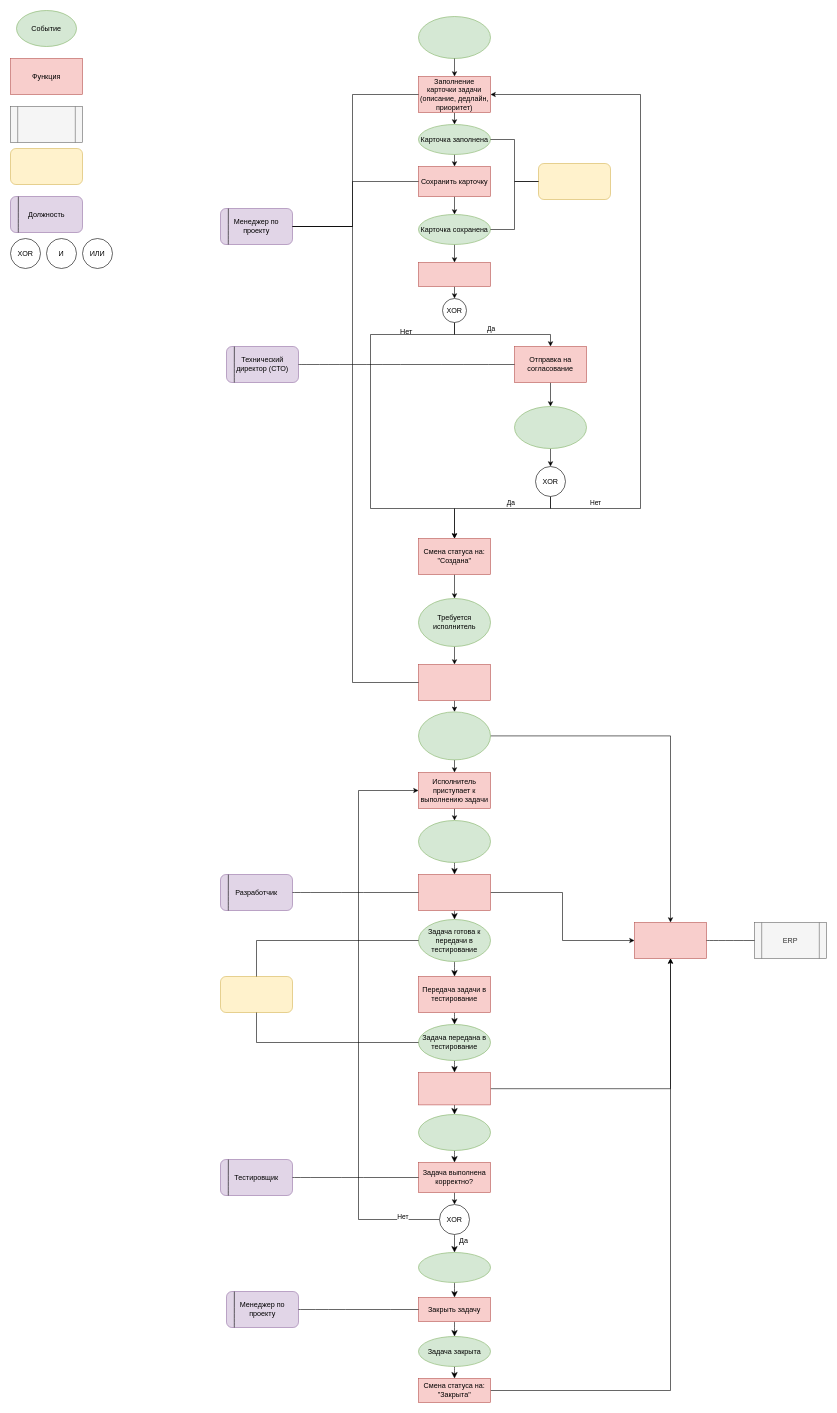
Image size: 837x1413. Some labels were removed from this diagram. Here are the shapes that lost their labels. From the top down, the centre of each, then its label:
point (454, 37): Требуется задача
point (46, 124): Приложения/ИС/ПО
point (46, 166): Информация
point (574, 181): Информация по задаче
point (454, 274): Требуется согласование?
point (550, 427): Согласование получено
point (454, 682): Назначить исполнителя
point (454, 735): Исполнитель назначен
point (454, 841): Исполнитель выполняет задачу
point (454, 892): Смена статуса на: "В процессе"
point (670, 940): Отправка уведомлений с текущим статусом по задаче
point (256, 994): Комментарии к задаче и дополнительные материалы
point (454, 1088): Смена статуса на: "Тестирование"
point (454, 1132): Выполнение тестирования
point (454, 1267): Закрытие задачи
